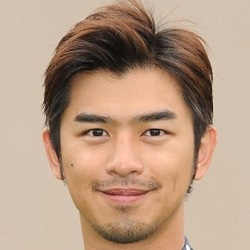unmask: (57, 79, 198, 244)
